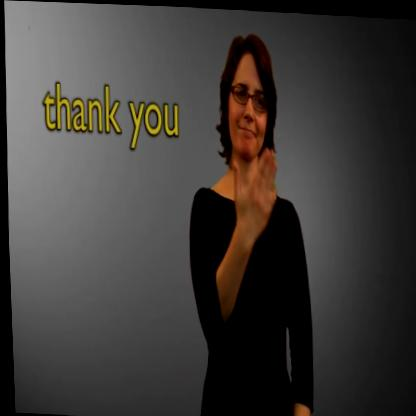ThankYou: (174, 21, 315, 368)
